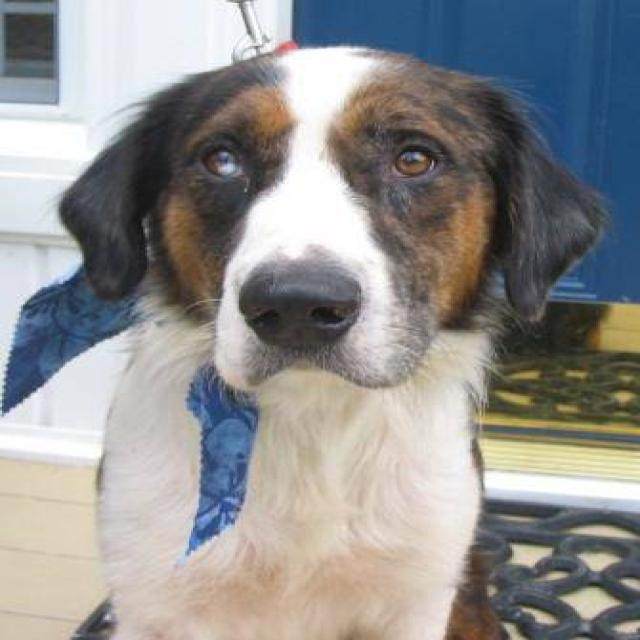dog: (44, 41, 609, 638)
